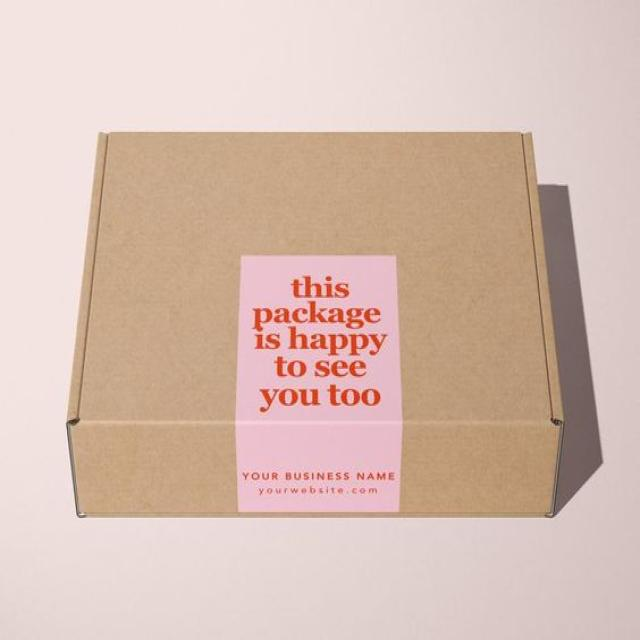Kardus kondisi bagus: (69, 136, 565, 520)
